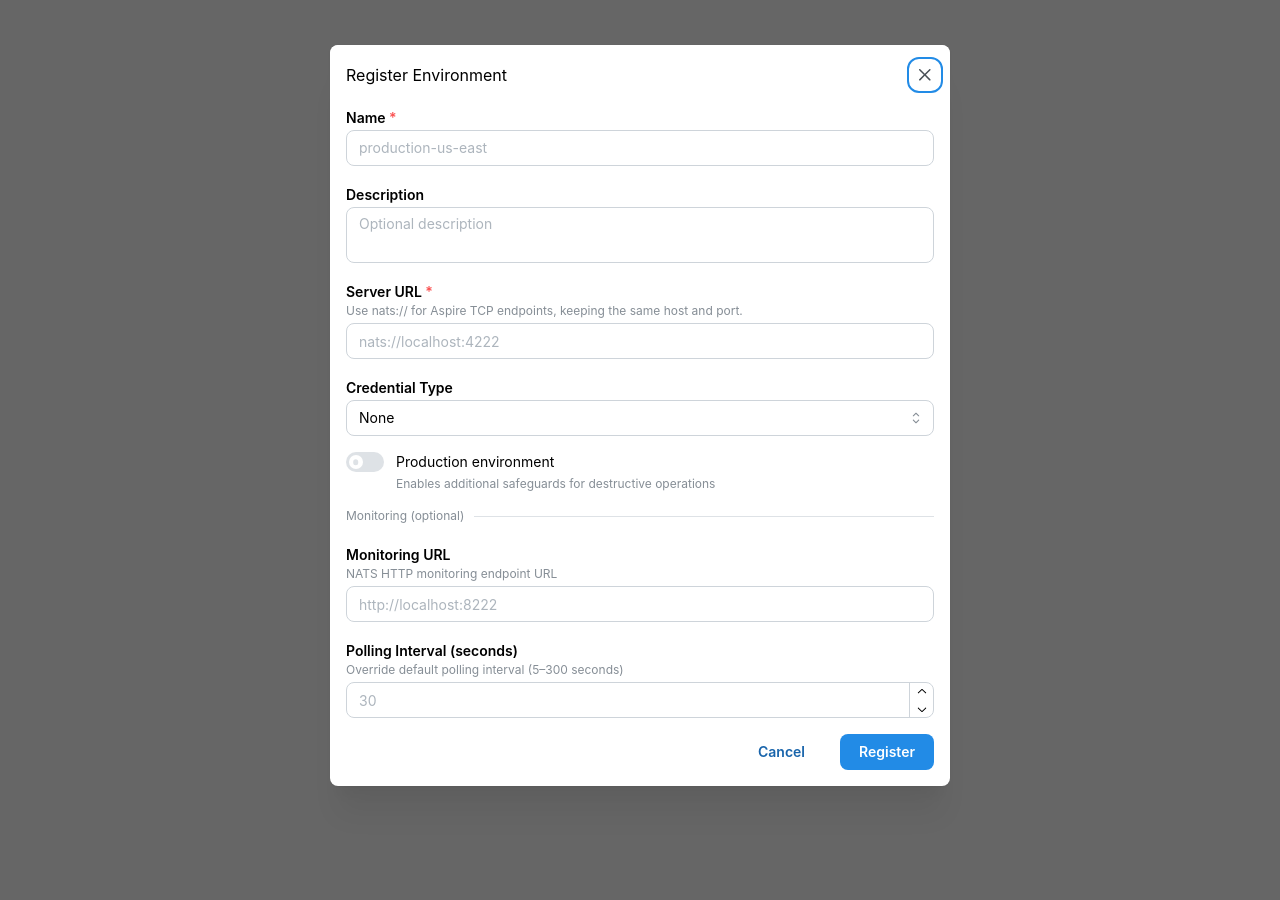
Test: EnvironmentForm › validates NATS server URL input before submitting
Type "Local" into the field with placeholder "production-us-east" at (640,148), box [346,130,934,166]
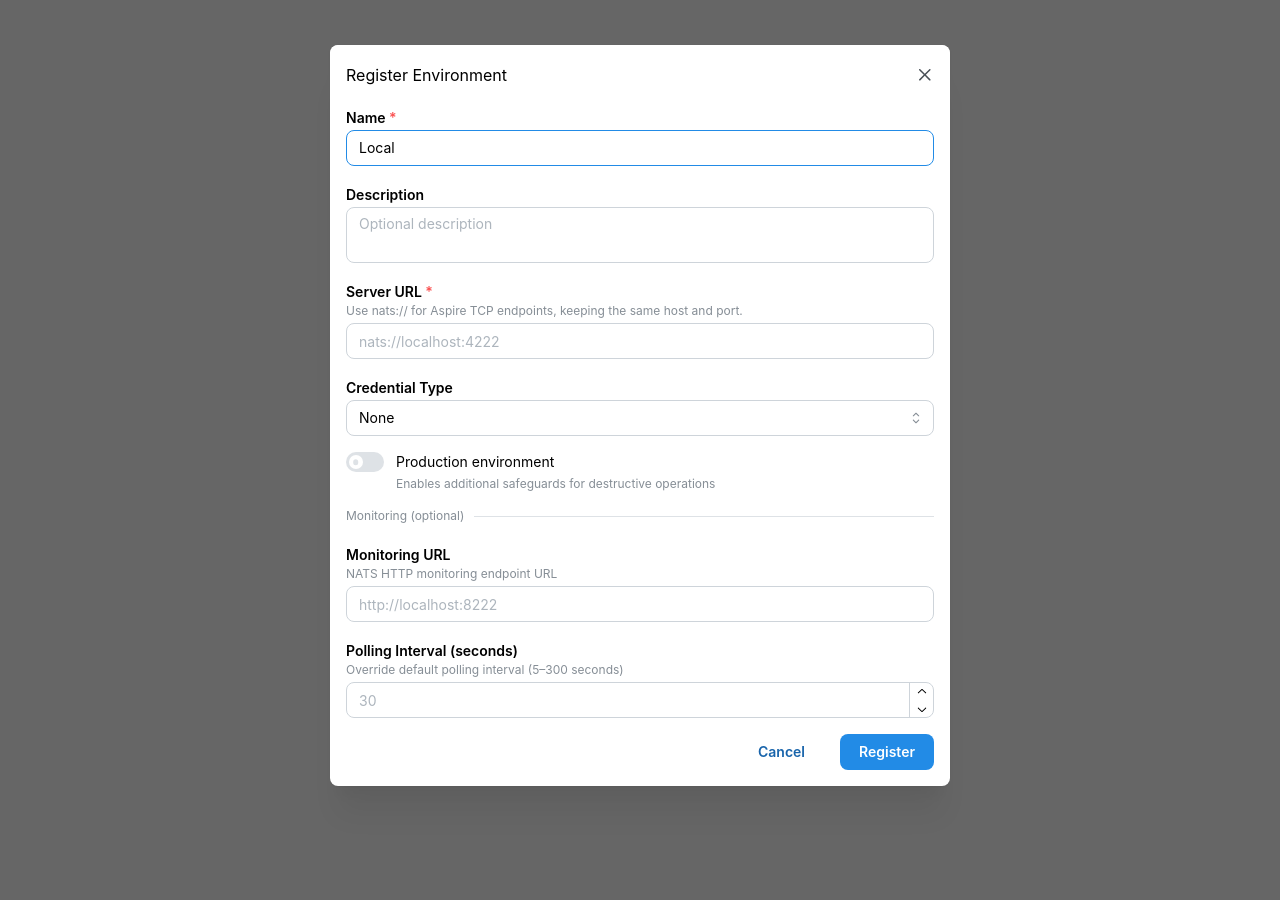
Type "tcp://localhost:60933" into the field with placeholder "nats://localhost:4222" at (640,341), box [346,323,934,359]
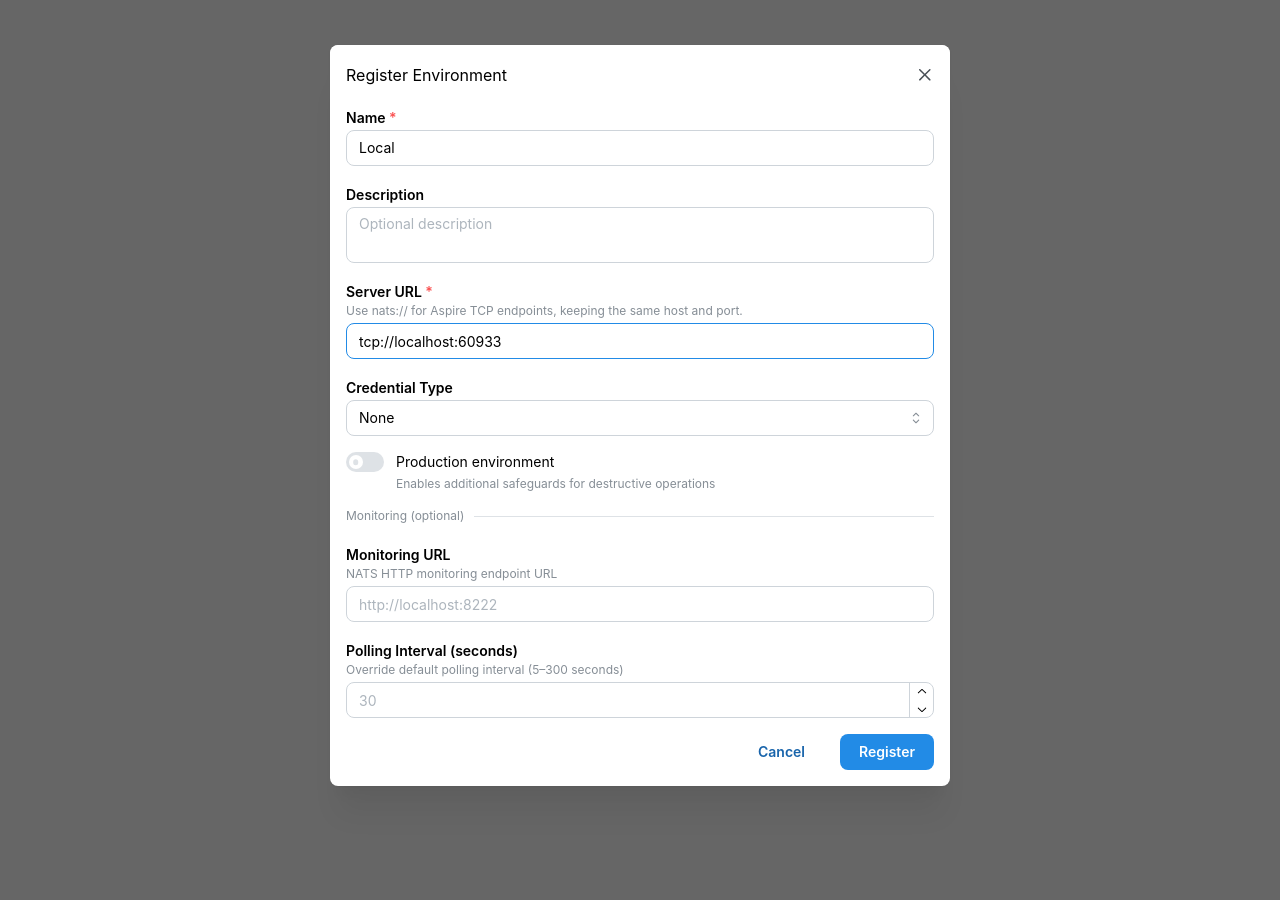
Click the button "Register" at (887,752), box [840,734,934,770]
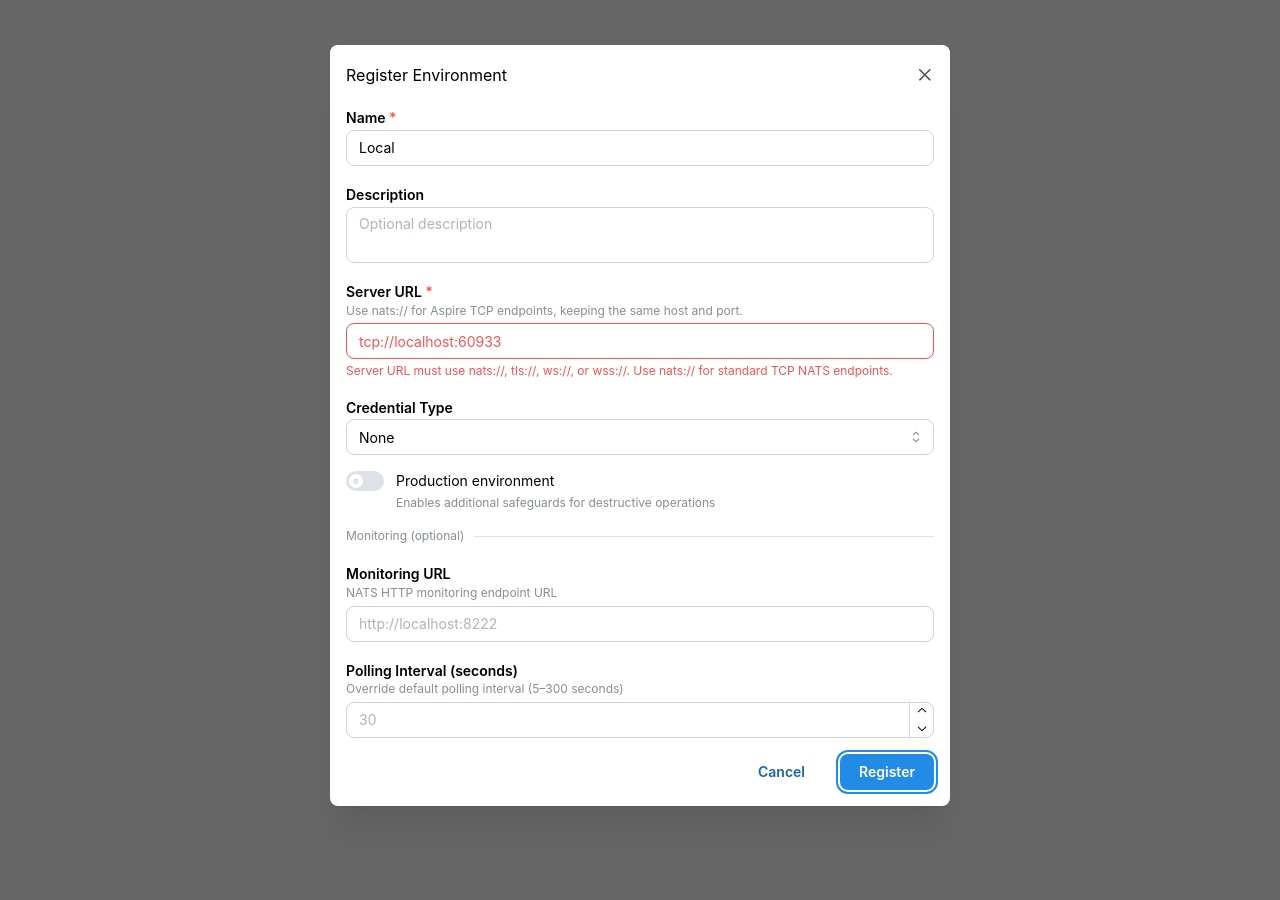
Result: the text "Server URL must use nats://, tls://, ws://, or wss://. Use nats:// for standard TCP NATS endpoints." is shown at [346,363,893,378]
